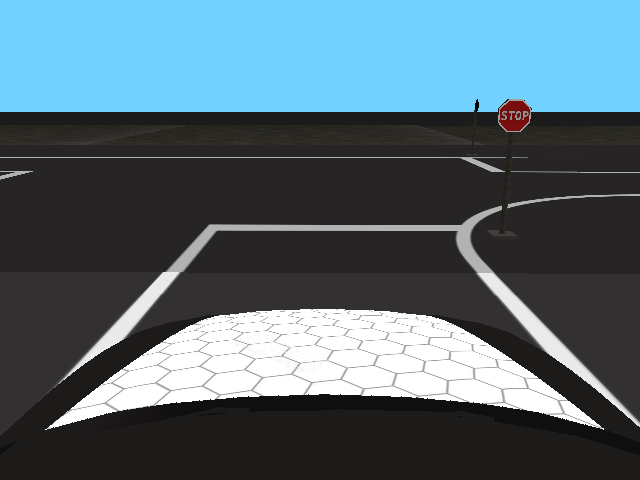stop: (498, 99, 531, 133)
